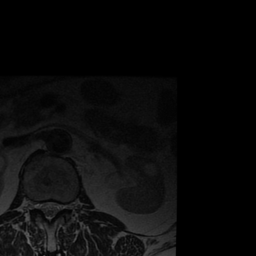CCS_normal: (45, 194, 52, 228)
LFS_stenosis: (60, 194, 68, 217)
LLS_normal: (52, 194, 60, 222)
RFS_normal: (31, 193, 38, 216)
RLS_normal: (38, 194, 45, 218)
